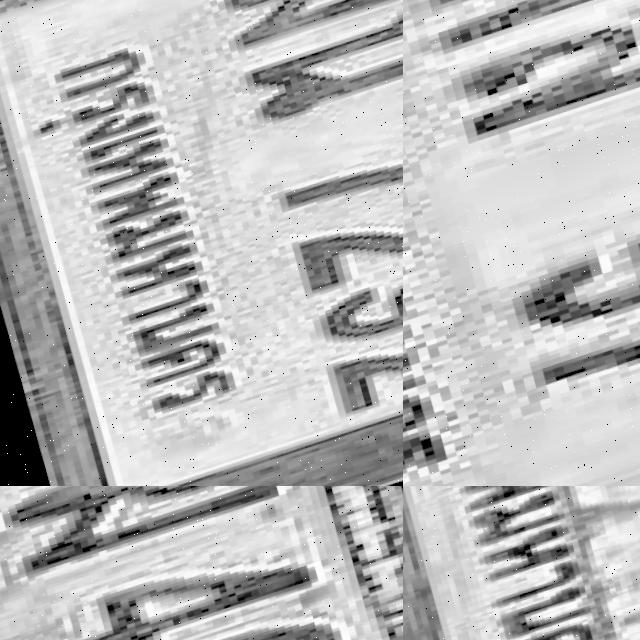license-plate: (0, 0, 403, 486), (403, 0, 640, 486), (0, 486, 403, 640), (403, 486, 640, 640)
